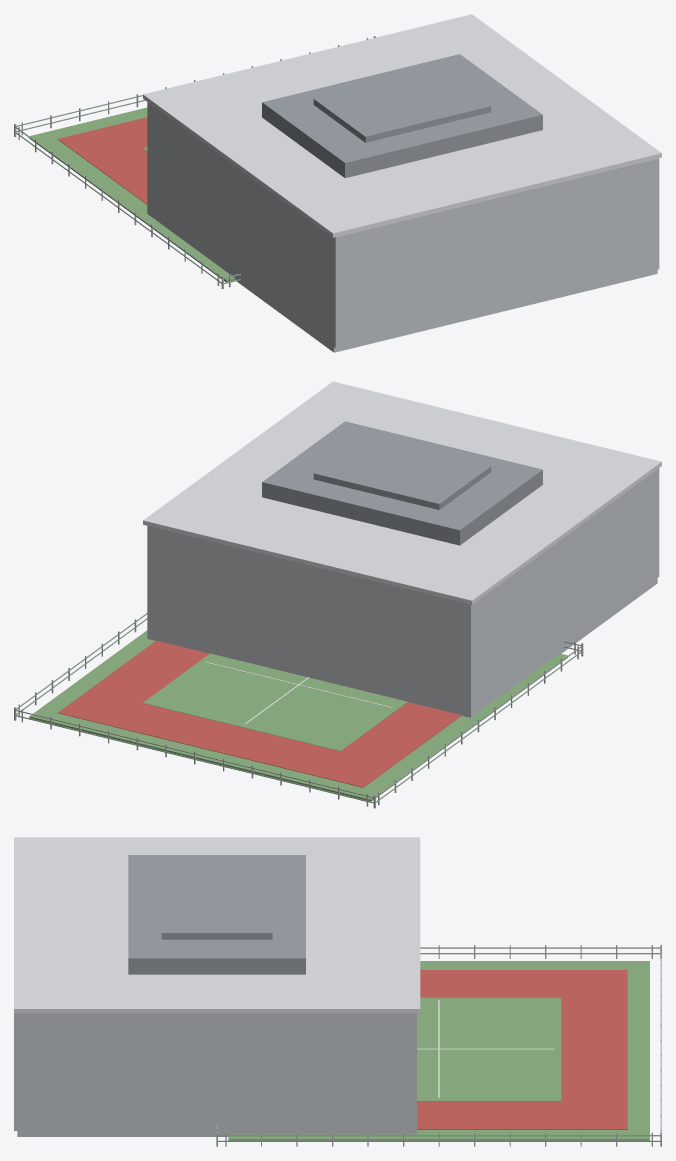
Rendered from buildings-3-far.glb.
3 views of the same model, one above another, from view 1: azimuth 30°, elevation 25°; view 2: azimuth 150°, elevation 25°; view 3: azimuth 270°, elevation 25° (orthographic). The views are drawn at different scales.
Visible parts, largest first — view 1: 北区体育馆 · Gym pale panel.001, 北区体育馆 · Gym trim.001, 北区体育馆 · Gym roof metal.001, 北区体育馆 · Gym track red.001, 北区体育馆 · Gym field grass.001, 北区体育馆 · Gym fence rail.001, 北区体育馆 · Gym fence post.001; view 2: 北区体育馆 · Gym pale panel.001, 北区体育馆 · Gym trim.001, 北区体育馆 · Gym field grass.001, 北区体育馆 · Gym roof metal.001, 北区体育馆 · Gym track red.001, 北区体育馆 · Gym fence rail.001, 北区体育馆 · Gym fence post.001; view 3: 北区体育馆 · Gym trim.001, 北区体育馆 · Gym pale panel.001, 北区体育馆 · Gym field grass.001, 北区体育馆 · Gym roof metal.001, 北区体育馆 · Gym track red.001, 北区体育馆 · Gym fence rail.001, 北区体育馆 · Gym fence post.001, 北区体育馆 · Gym track line.001.
Part boxes in pixels (left/top/right/bottom): 北区体育馆 · Gym pale panel.001: left=147, top=102, right=659, bottom=352; 北区体育馆 · Gym trim.001: left=143, top=14, right=661, bottom=237; 北区体育馆 · Gym roof metal.001: left=262, top=54, right=542, bottom=178; 北区体育馆 · Gym track red.001: left=57, top=117, right=147, bottom=204; 北区体育馆 · Gym field grass.001: left=29, top=107, right=235, bottom=282; 北区体育馆 · Gym fence rail.001: left=15, top=95, right=240, bottom=283; 北区体育馆 · Gym fence post.001: left=14, top=36, right=375, bottom=289; 北区体育馆 · Gym pale panel.001: left=147, top=468, right=659, bottom=717; 北区体育馆 · Gym trim.001: left=143, top=381, right=661, bottom=604; 北区体育馆 · Gym field grass.001: left=29, top=630, right=567, bottom=801; 北区体育馆 · Gym roof metal.001: left=262, top=421, right=542, bottom=545; 北区体育馆 · Gym track red.001: left=58, top=640, right=461, bottom=787; 北区体育馆 · Gym fence rail.001: left=15, top=613, right=582, bottom=803; 北区体育馆 · Gym fence post.001: left=14, top=619, right=583, bottom=808; 北区体育馆 · Gym trim.001: left=14, top=837, right=420, bottom=1013; 北区体育馆 · Gym pale panel.001: left=14, top=1013, right=416, bottom=1136; 北区体育馆 · Gym field grass.001: left=228, top=961, right=649, bottom=1140; 北区体育馆 · Gym roof metal.001: left=128, top=855, right=305, bottom=974; 北区体育馆 · Gym track red.001: left=417, top=970, right=627, bottom=1129; 北区体育馆 · Gym fence rail.001: left=216, top=947, right=661, bottom=1141; 北区体育馆 · Gym fence post.001: left=216, top=944, right=661, bottom=1146; 北区体育馆 · Gym track line.001: left=417, top=1000, right=554, bottom=1097.
Size of the model in its own units: 40.16 by 15.15 by 58.38.
